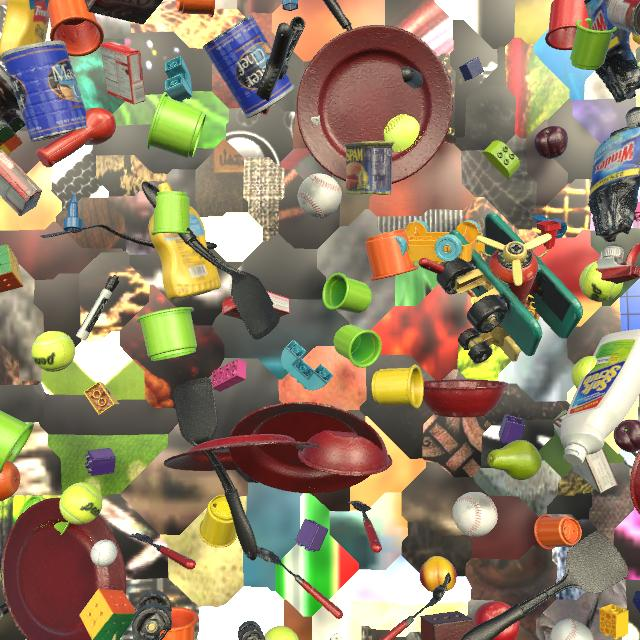ycb_002_master_chef_can: (202, 14, 295, 118), (1, 41, 88, 142)
ycb_005_tomato_soup_can: (607, 0, 640, 37), (0, 609, 3, 621)
ycb_006_mustard_bottle: (149, 182, 221, 301), (0, 0, 50, 63), (632, 33, 640, 45)
ycb_008_pudding_box: (553, 413, 618, 494), (0, 149, 42, 216), (84, 0, 163, 25)
ycb_009_gelatin_box: (100, 41, 145, 105), (222, 291, 290, 320)
ycb_010_potted_meat_can: (344, 141, 394, 195)
ycb_013_apple: (474, 601, 520, 640)
ycb_015_peach: (419, 556, 457, 592)
ycb_016_pear: (487, 440, 542, 480)
ycb_017_orange: (0, 460, 20, 501)
ycb_018_plum: (534, 126, 568, 159), (614, 419, 640, 453)
